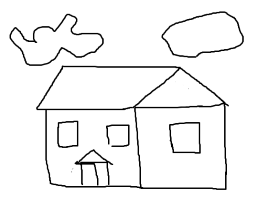clouds: (8, 13, 105, 67), (161, 10, 244, 58)
door: (74, 149, 111, 186)
open_window: (170, 122, 201, 153), (106, 123, 130, 147), (56, 121, 78, 147)
roof: (36, 64, 226, 111)
wall: (45, 106, 143, 192)
